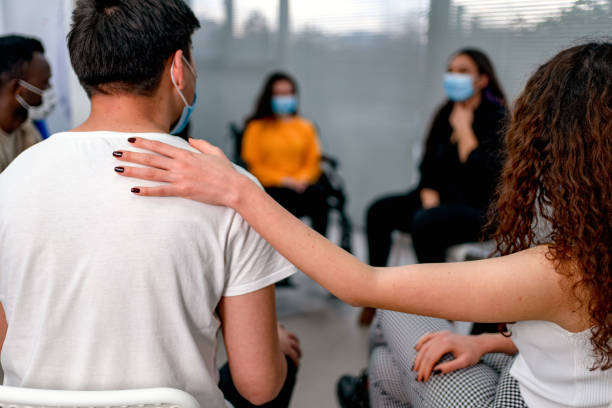with mask: (1, 35, 63, 132), (257, 72, 307, 125), (439, 52, 489, 105)
